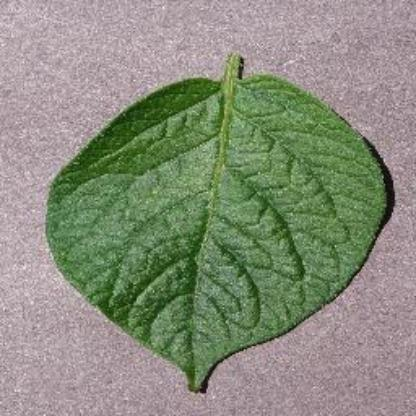Healthy-plant: (40, 22, 400, 402)
